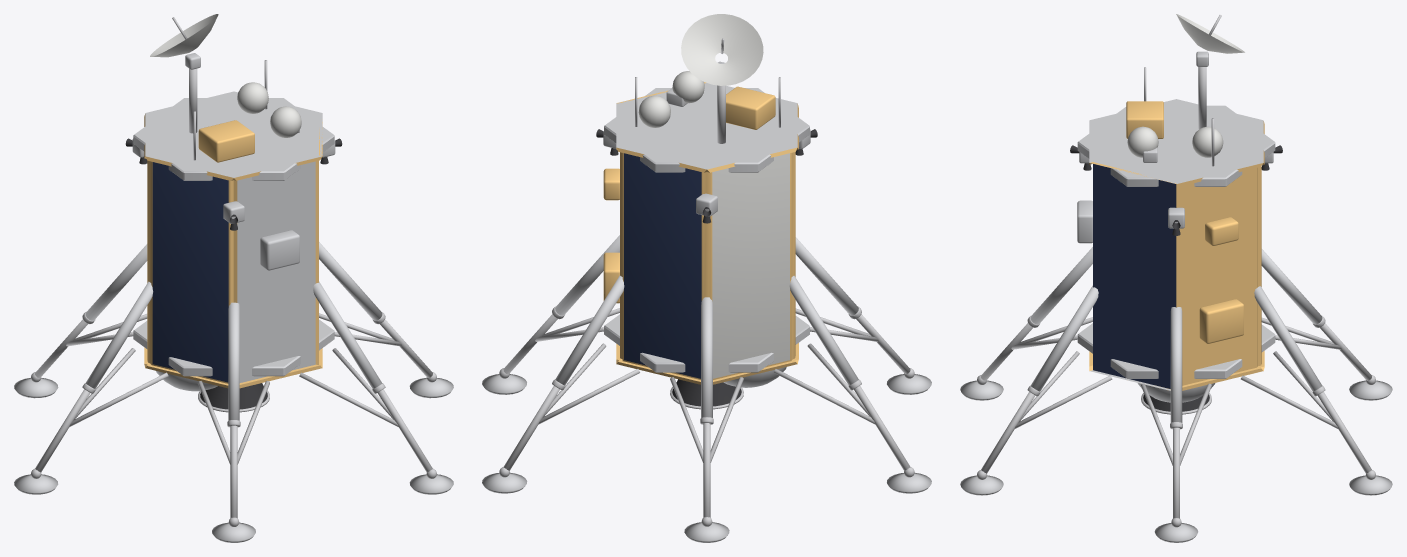
File: lander.glb
The picture shows the model from 3 angles, left to right: view 1: azimuth 30°, elevation 25°; view 2: azimuth 150°, elevation 25°; view 3: azimuth 270°, elevation 25°; orthographic projection. The views are drawn at different scales.
Parts seen in each view (by area): view 1: lander; view 2: lander; view 3: lander.
Part boxes in pixels (x1,y1,x2,y2): lander: (14, 14, 453, 542); lander: (482, 14, 931, 542); lander: (960, 14, 1392, 542).
Size of the model in its own units: 4.72 by 4.35 by 4.14.
